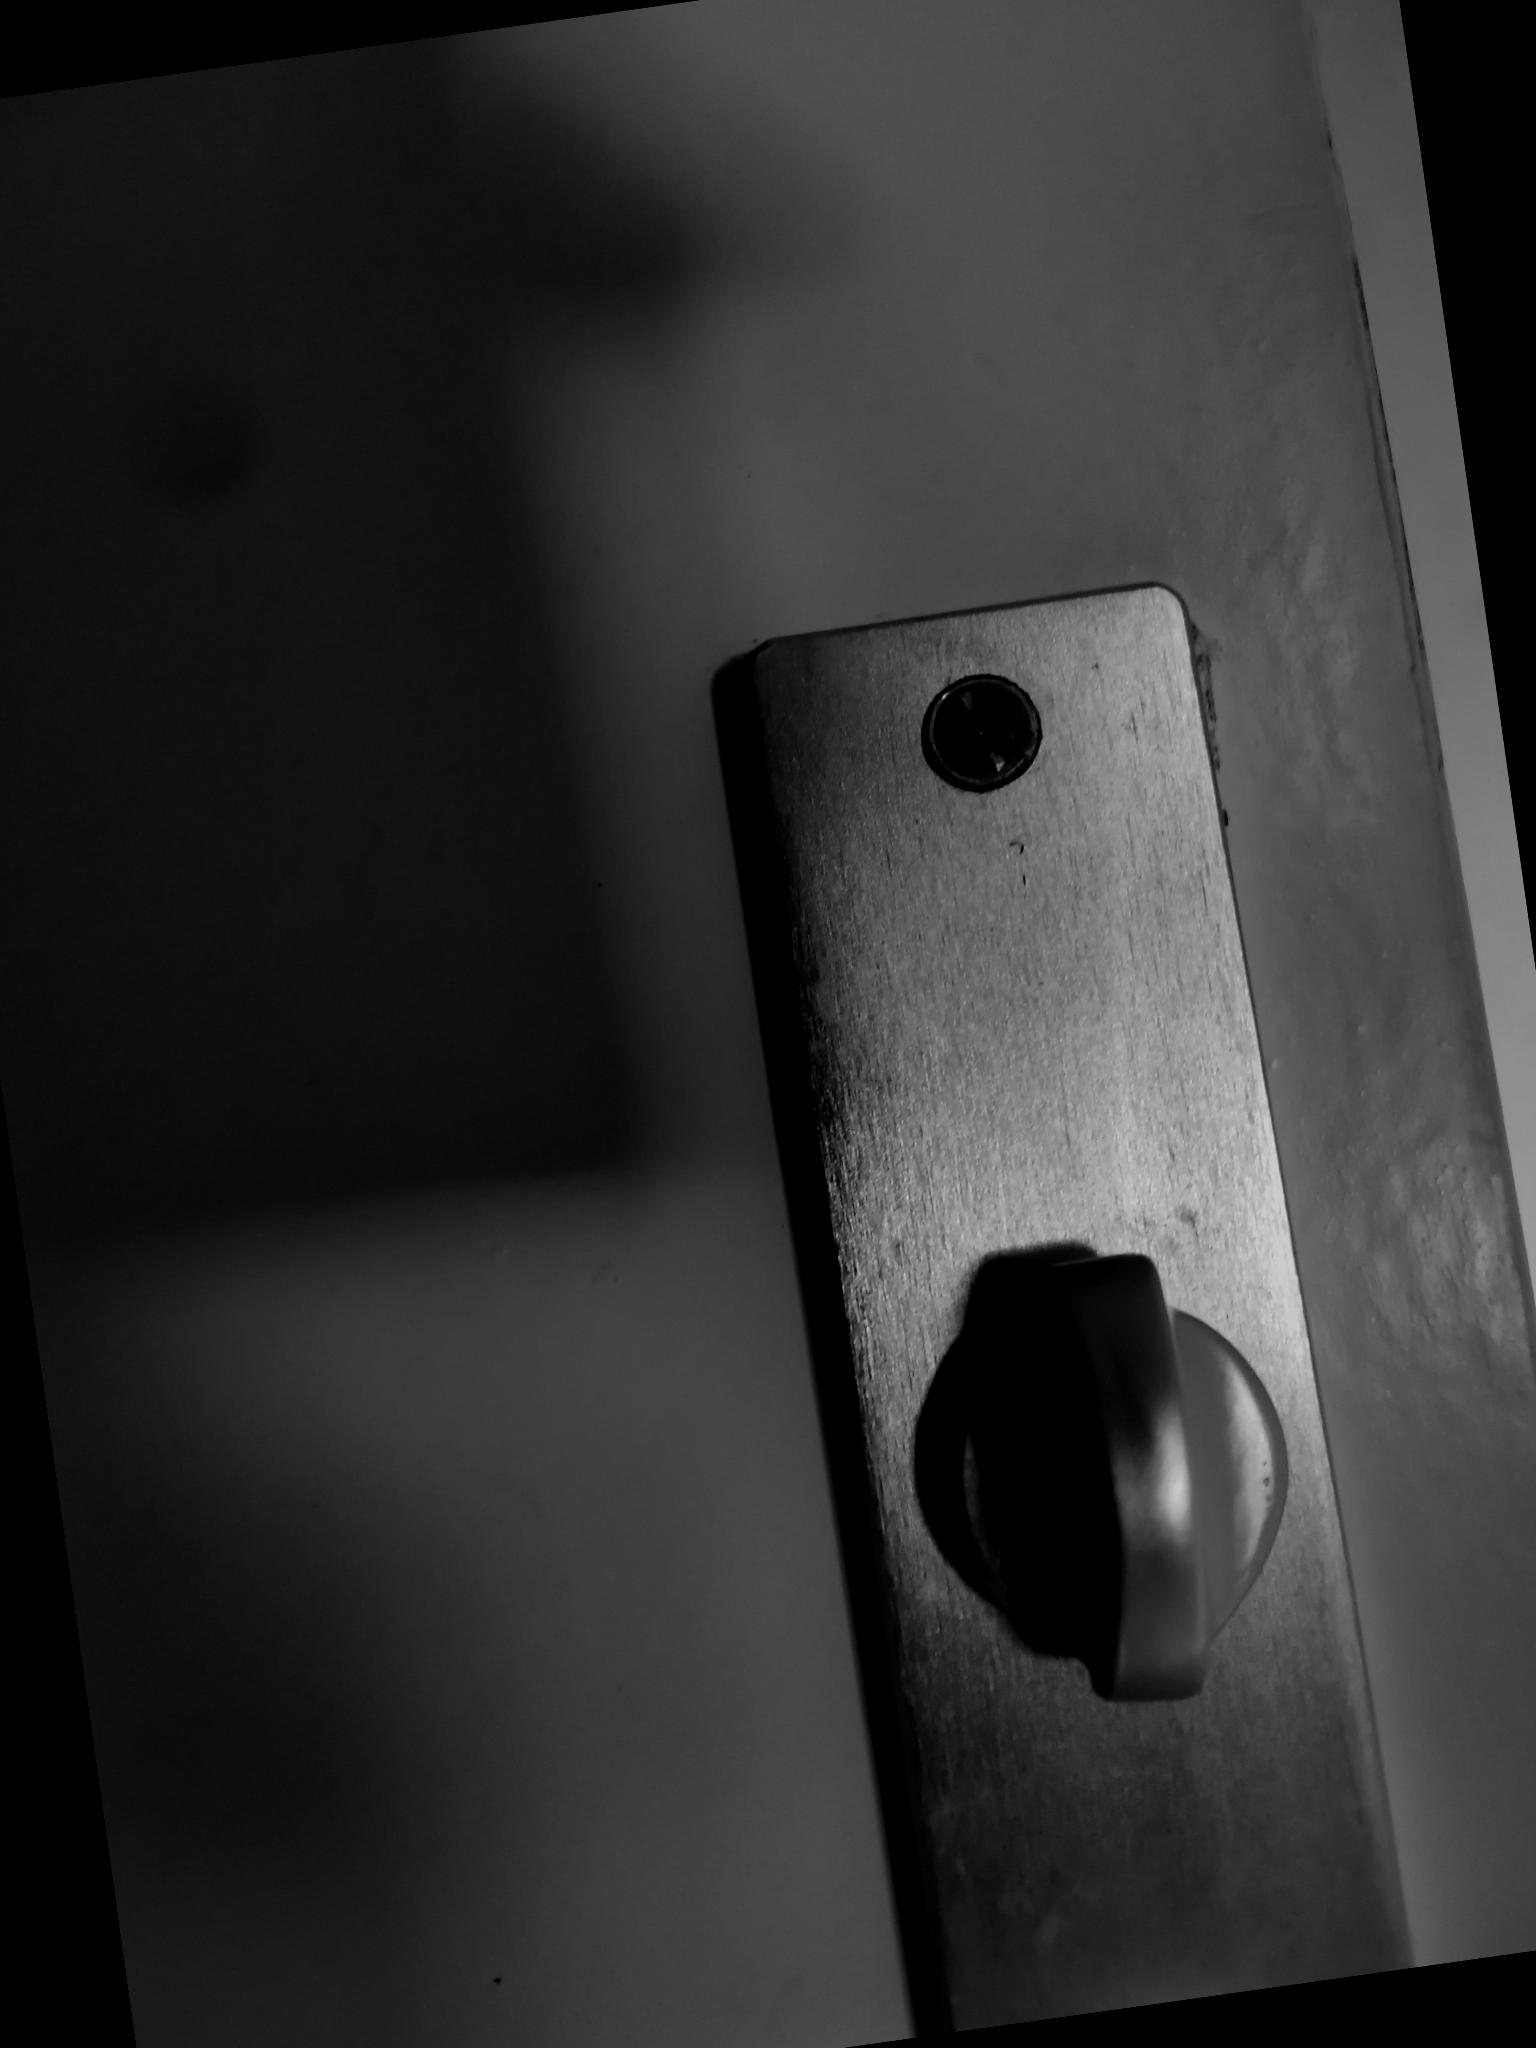philips-PZ: (904, 658, 1060, 810)
